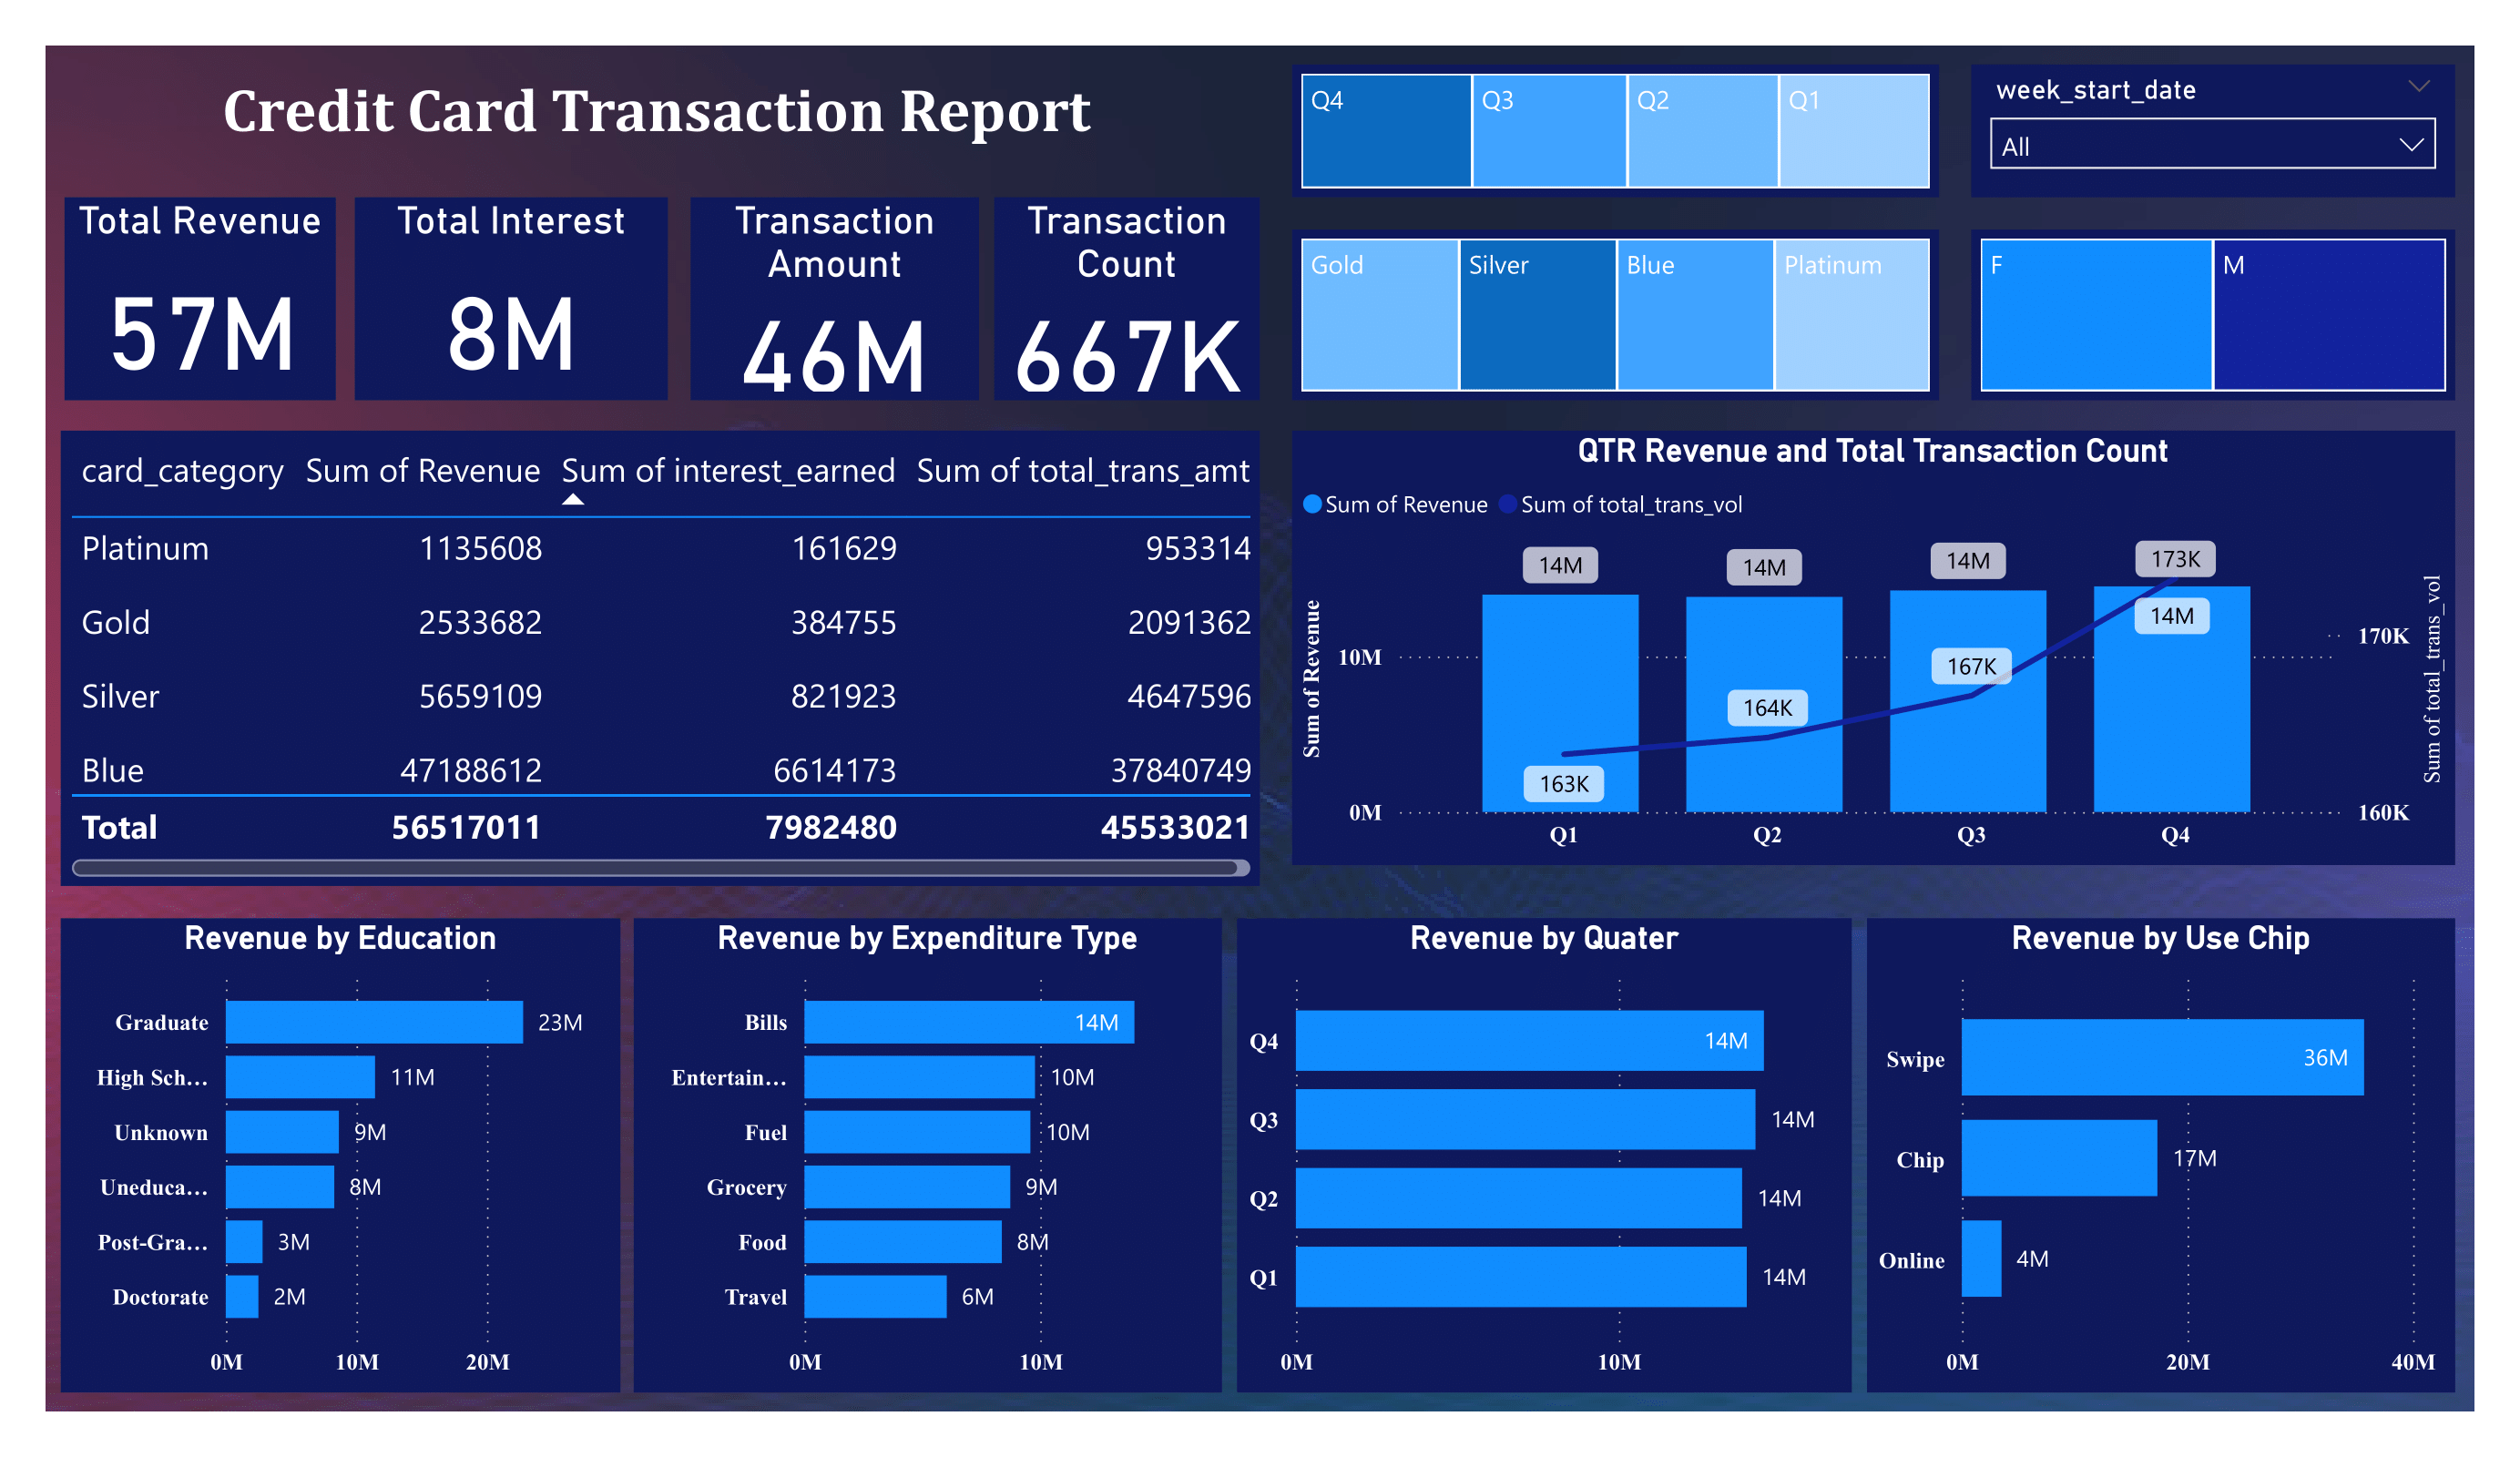

Layout of this report page (visuals, bound fields, positions):
{"tool":"powerbi","page":{"name":"Transaction Report","canvas":[1280,720],"ordinal":0},"visuals":[{"type":"barChart","title":"Revenue by Quater","fields":{"Y":["Sum(public cc_detail.Revenue)"],"Category":["public cc_detail.qtr"]},"box":[628.3,460,323.3,250],"z":0},{"type":"barChart","title":"Revenue by Use Chip","fields":{"Y":["Sum(public cc_detail.Revenue)"],"Category":["public cc_detail.use_chip"]},"box":[960,460,310,250],"z":1000},{"type":"textbox","box":[8.3,10,631.7,46.7],"z":2000},{"type":"barChart","title":"Revenue by Expenditure Type","fields":{"Y":["Sum(public cc_detail.Revenue)"],"Category":["public cc_detail.exp_type"]},"box":[310,460,310,250],"z":3000},{"type":"barChart","title":"Revenue by Education","fields":{"Y":["Sum(public cc_detail.Revenue)"],"Category":["public cust_detail.education_level"]},"box":[8.3,460,295,250],"z":4000},{"type":"lineStackedColumnComboChart","title":"QTR Revenue and Total Transaction Count","fields":{"Category":["public cc_detail.qtr"],"Y":["Sum(public cc_detail.Revenue)"],"Y2":["Sum(public cc_detail.total_trans_vol)"]},"box":[656.7,203.3,613.3,228.3],"z":5000},{"type":"tableEx","fields":{"Values":["public cc_detail.card_category","Sum(public cc_detail.Revenue)","Sum(public cc_detail.interest_earned)","Sum(public cc_detail.total_trans_amt)"]},"box":[8.3,203.3,631.7,240],"z":6000},{"type":"card","title":"Total Revenue","fields":{"Values":["Sum(public cc_detail.Revenue)"]},"box":[10,80,143.3,106.7],"z":7000},{"type":"card","title":"Total Interest","fields":{"Values":["Sum(public cc_detail.interest_earned)"]},"box":[163.3,80,165,106.7],"z":8000},{"type":"card","title":"Transaction Amount","fields":{"Values":["Sum(public cc_detail.total_trans_amt)"]},"box":[340,80,151.7,106.7],"z":9000},{"type":"card","title":"Transaction Count","fields":{"Values":["Sum(public cc_detail.total_trans_vol)"]},"box":[500,80,140,106.7],"z":10000},{"type":"slicer","title":"Week Start Date","fields":{"Values":["public cc_detail.week_start_date"]},"box":[1015,10,255,70],"z":11000},{"type":"treemap","fields":{"Group":["public cc_detail.qtr"],"Values":["Avg(public cc_detail.client_num)"]},"box":[656.7,10,341.7,70],"z":12000},{"type":"treemap","fields":{"Group":["public cust_detail.gender"],"Values":["Avg(public cc_detail.client_num)"]},"box":[1015,96.7,255,90],"z":13000},{"type":"treemap","fields":{"Group":["public cc_detail.card_category"],"Values":["Avg(public cc_detail.client_num)"]},"box":[656.7,96.7,341.7,90],"z":14000}]}

Visuals, with their boxes in screenshot pixels (x1, y1, x2, y2):
"Revenue by Quater" barChart: detection(1238, 918, 1852, 1392)
"Revenue by Use Chip" barChart: detection(1867, 918, 2455, 1392)
textbox: detection(61, 65, 1260, 153)
"Revenue by Expenditure Type" barChart: detection(634, 918, 1222, 1392)
"Revenue by Education" barChart: detection(61, 918, 621, 1392)
"QTR Revenue and Total Transaction Count" lineStackedColumnComboChart: detection(1291, 432, 2455, 864)
tableEx - public cc_detail.card_category x Sum(public cc_detail.Revenue): detection(61, 432, 1260, 887)
"Total Revenue" card: detection(65, 198, 336, 400)
"Total Interest" card: detection(355, 198, 668, 400)
"Transaction Amount" card: detection(690, 198, 979, 400)
"Transaction Count" card: detection(995, 198, 1260, 400)
"Week Start Date" slicer: detection(1972, 65, 2455, 198)
treemap - public cc_detail.qtr x Avg(public cc_detail.client_num): detection(1291, 65, 1940, 198)
treemap - public cust_detail.gender x Avg(public cc_detail.client_num): detection(1972, 229, 2455, 400)
treemap - public cc_detail.card_category x Avg(public cc_detail.client_num): detection(1291, 229, 1940, 400)
